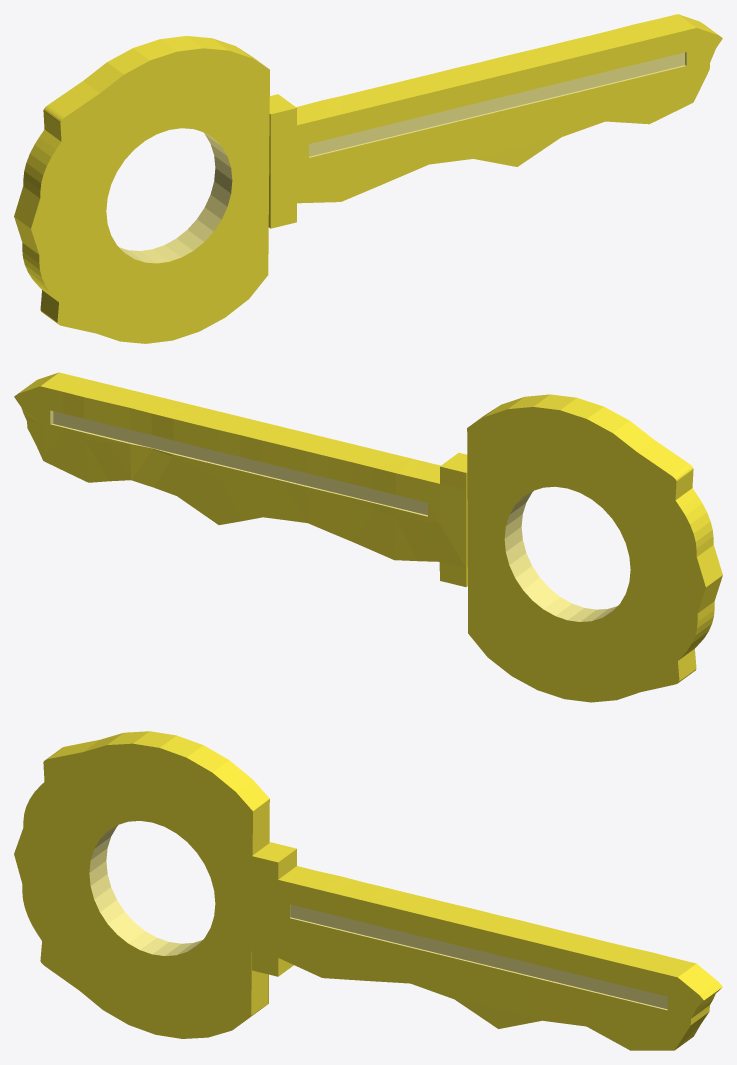
The model's file is Key.obj.
3 views of the same model, one above another, from view 1: azimuth 30°, elevation 25°; view 2: azimuth 150°, elevation 25°; view 3: azimuth 330°, elevation 25° (orthographic).
Parts seen in each view (by area): view 1: Куб.015_Куб.019; view 2: Куб.015_Куб.019; view 3: Куб.015_Куб.019.
Part boxes in pixels (bbox=[...]): Куб.015_Куб.019: bbox=[14, 14, 722, 343]; Куб.015_Куб.019: bbox=[14, 372, 722, 702]; Куб.015_Куб.019: bbox=[14, 731, 722, 1050].
Bounding box in the file's own units: 0.4799 × 0.191 × 0.0233.
